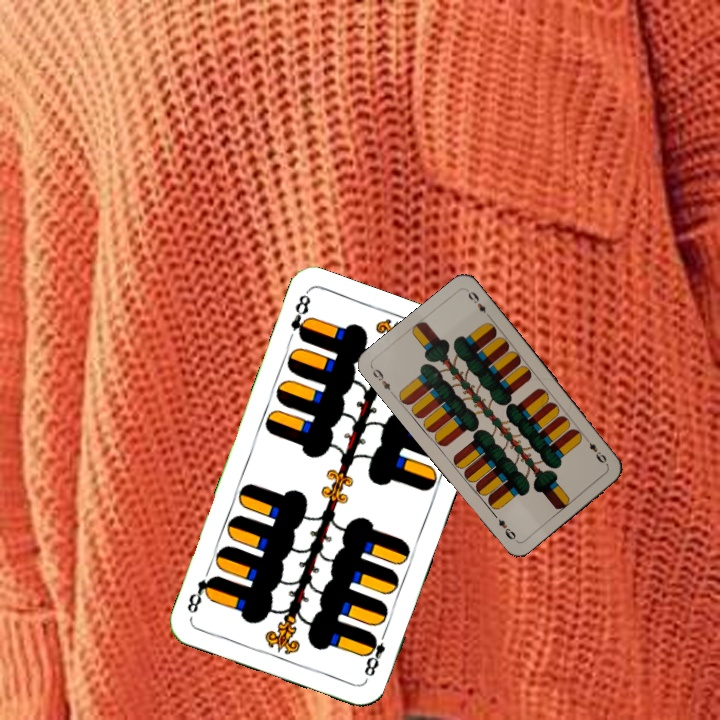E8: (360, 625, 390, 679), (286, 289, 314, 344)
E9: (368, 364, 397, 398), (582, 433, 609, 466)
